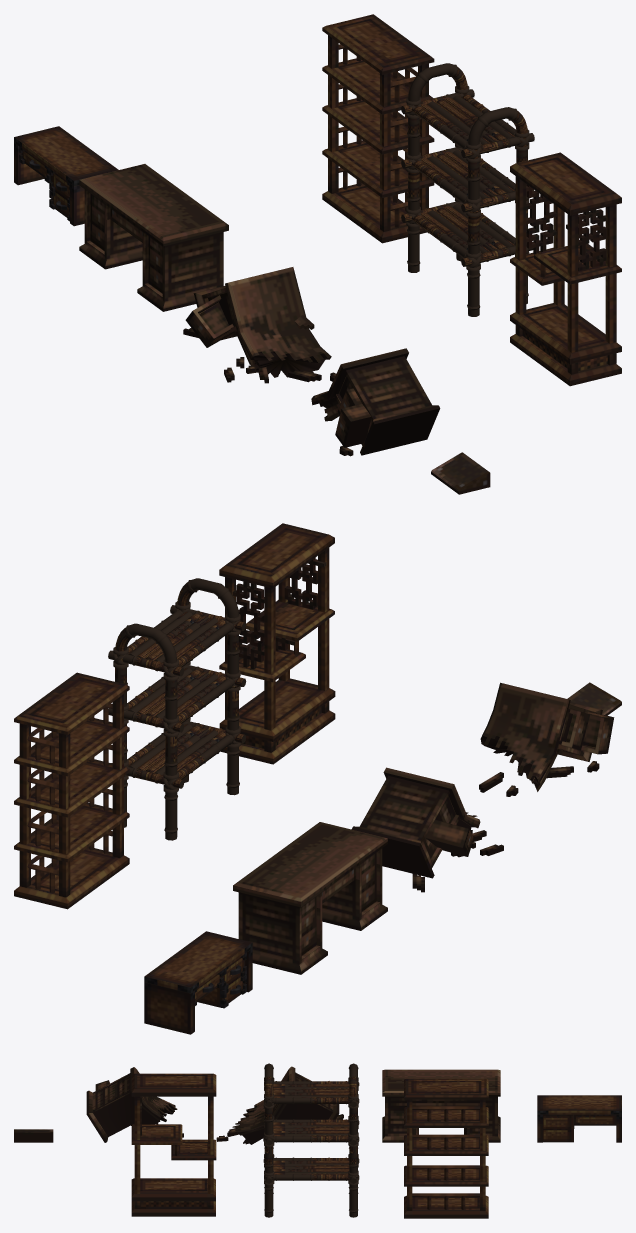
File: EnvObjMD_Furniture_D_Closet_L.FBX
3 views of the same model, one above another, from view 1: azimuth 30°, elevation 25°; view 2: azimuth 150°, elevation 25°; view 3: azimuth 270°, elevation 25° (orthographic). The views are drawn at different scales.
Parts seen in each view (by area): view 1: EnvObjMD_Furniture_D_Cupboard_L, EnvObjMD_Furniture_D_Closet_L, EnvObjMD_Furniture_F_Bamboo_A, EnvObjMD_Furniture_E_WritingDesk, EnvObjMD_Furniture_E_WritingDesk_Broken_Left, EnvObjMD_Furniture_E_WritingDesk_Broken_Right, EnvObjMD_Furniture_D_WritingDesk_M, EnvObjMD_Furniture_E_WritingSlope; view 2: EnvObjMD_Furniture_D_Closet_L, EnvObjMD_Furniture_D_Cupboard_L, EnvObjMD_Furniture_F_Bamboo_A, EnvObjMD_Furniture_E_WritingDesk, EnvObjMD_Furniture_E_WritingDesk_Broken_Right, EnvObjMD_Furniture_E_WritingDesk_Broken_Left, EnvObjMD_Furniture_D_WritingDesk_M, EnvObjMD_Furniture_E_WritingSlope; view 3: EnvObjMD_Furniture_D_Closet_L, EnvObjMD_Furniture_F_Bamboo_A, EnvObjMD_Furniture_D_Cupboard_L, EnvObjMD_Furniture_E_WritingDesk, EnvObjMD_Furniture_D_WritingDesk_M, EnvObjMD_Furniture_E_WritingDesk_Broken_Right, EnvObjMD_Furniture_E_WritingDesk_Broken_Left, EnvObjMD_Furniture_E_WritingSlope.
Boxes of the visible parts, x1,y1,x2,y2 form: EnvObjMD_Furniture_D_Cupboard_L: (510,152,621,386); EnvObjMD_Furniture_D_Closet_L: (322,14,434,243); EnvObjMD_Furniture_F_Bamboo_A: (401,63,534,316); EnvObjMD_Furniture_E_WritingDesk: (79,164,228,311); EnvObjMD_Furniture_E_WritingDesk_Broken_Left: (183,267,335,383); EnvObjMD_Furniture_E_WritingDesk_Broken_Right: (311,348,440,456); EnvObjMD_Furniture_D_WritingDesk_M: (14,126,118,226); EnvObjMD_Furniture_E_WritingSlope: (431,452,490,494); EnvObjMD_Furniture_D_Closet_L: (14,672,129,909); EnvObjMD_Furniture_D_Cupboard_L: (219,523,335,764); EnvObjMD_Furniture_F_Bamboo_A: (108,578,246,840); EnvObjMD_Furniture_E_WritingDesk: (233,822,387,974); EnvObjMD_Furniture_E_WritingDesk_Broken_Right: (479,682,614,796); EnvObjMD_Furniture_E_WritingDesk_Broken_Left: (351,767,503,892); EnvObjMD_Furniture_D_WritingDesk_M: (144,931,252,1034); EnvObjMD_Furniture_E_WritingSlope: (567,682,621,715); EnvObjMD_Furniture_D_Closet_L: (404,1078,488,1218); EnvObjMD_Furniture_F_Bamboo_A: (263,1063,359,1217); EnvObjMD_Furniture_D_Cupboard_L: (131,1073,216,1216); EnvObjMD_Furniture_E_WritingDesk: (382,1069,500,1142); EnvObjMD_Furniture_D_WritingDesk_M: (537,1095,621,1142); EnvObjMD_Furniture_E_WritingDesk_Broken_Right: (86,1067,183,1142); EnvObjMD_Furniture_E_WritingDesk_Broken_Left: (216,1066,343,1144); EnvObjMD_Furniture_E_WritingSlope: (14,1129,53,1142).
Bounding box in the file's own units: 454 × 285 × 1078.
2 materials, 2 textured.
